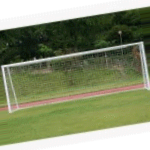goals: (1, 41, 150, 115)
